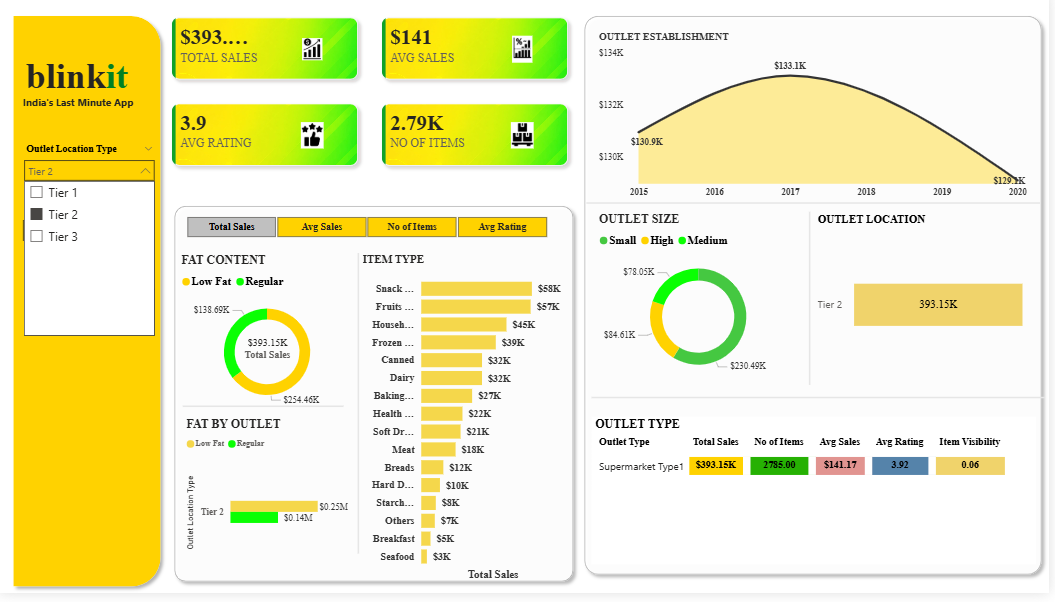

Layout of this report page (visuals, bound fields, positions):
{"tool":"powerbi","page":{"name":"Page 1","canvas":[1400,800],"ordinal":0},"visuals":[{"type":"shape","box":[10.7,21.4,214.5,778.8],"z":0},{"type":"textbox","box":[26.8,77.7,154.2,65.7],"z":1000},{"type":"textbox","box":[26.8,131.4,168.9,28.2],"z":2000},{"type":"cardVisual","fields":{"Data":["BlinkIT Grocery Data.Total Sales","BlinkIT Grocery Data.Avg Sales","BlinkIT Grocery Data.Avg Rating","BlinkIT Grocery Data.No of Items"]},"box":[202.4,2.7,587.1,256],"z":3000},{"type":"shape","box":[225.2,274.8,549.6,518.8],"z":4000},{"type":"donutChart","title":"FAT CONTENT","fields":{"Y":["BlinkIT Grocery Data.Total Sales"],"Category":["BlinkIT Grocery Data.Item Fat Content"]},"box":[238.6,347.2,238.6,214.5],"z":5000},{"type":"slicer","fields":{"Values":["Metrics.Metrics"]},"box":[225.2,290.9,529.5,38.9],"z":6000},{"type":"cardVisual","fields":{"Data":["BlinkIT Grocery Data.Total Sales"]},"box":[294.9,438.3,126,73.7],"z":7000},{"type":"clusteredBarChart","title":"FAT BY OUTLET","fields":{"Y":["BlinkIT Grocery Data.Total Sales"],"Category":["BlinkIT Grocery Data.Outlet Location Type"],"Series":["BlinkIT Grocery Data.Item Fat Content"]},"box":[245.3,564.3,225.2,202.4],"z":8000},{"type":"shape","box":[245.3,544.2,214.5,12.1],"z":9000},{"type":"shape","box":[473.2,347.2,12.1,406.2],"z":10000},{"type":"barChart","title":"ITEM TYPE","fields":{"Y":["BlinkIT Grocery Data.Total Sales"],"Category":["BlinkIT Grocery Data.Item Type"]},"box":[485.3,345.8,269.4,437],"z":11000},{"type":"shape","box":[772.1,21.4,627.3,762.7],"z":12000},{"type":"lineChart","title":"OUTLET ESTABLISHMENT","fields":{"Category":["BlinkIT Grocery Data.Outlet Establishment Year"],"Y":["BlinkIT Grocery Data.Total Sales"]},"box":[794.9,49.6,580.4,230.6],"z":13000},{"type":"shape","box":[789.5,533.5,604.6,12.1],"z":14000},{"type":"donutChart","title":"OUTLET SIZE","fields":{"Y":["BlinkIT Grocery Data.Total Sales"],"Category":["BlinkIT Grocery Data.Outlet Size"]},"box":[794.9,290.9,274.8,230.6],"z":15000},{"type":"shape","box":[1075.1,290.9,12.1,235.9],"z":16000},{"type":"funnel","title":"OUTLET LOCATION","fields":{"Category":["BlinkIT Grocery Data.Outlet Location Type"],"Y":["Sum(BlinkIT Grocery Data.Sales)"]},"box":[1087.1,293.6,288.2,227.9],"z":17000},{"type":"shape","box":[782.8,276.1,604.6,6.7],"z":18000},{"type":"pivotTable","title":"OUTLET TYPE","fields":{"Rows":["BlinkIT Grocery Data.Outlet Type"],"Values":["BlinkIT Grocery Data.Total Sales","BlinkIT Grocery Data.No of Items","BlinkIT Grocery Data.Avg Sales","BlinkIT Grocery Data.Avg Rating","Avg(BlinkIT Grocery Data.Item Visibility)"]},"box":[789.5,564.3,592.5,197.1],"z":19000},{"type":"slicer","fields":{"Values":["BlinkIT Grocery Data.Outlet Location Type"]},"box":[24.1,194.4,194.4,64.3],"z":20000},{"type":"slicer","fields":{"Values":["BlinkIT Grocery Data.Outlet Size"]},"box":[21.4,274.8,194.4,64.3],"z":21000},{"type":"slicer","fields":{"Values":["BlinkIT Grocery Data.Item Type"]},"box":[22.8,367.3,194.4,64.3],"z":22000}]}

Visuals, with their boxes in screenshot pixels (x1, y1, x2, y2), scaled from the page's 1400x800 canvas onto the 1055x602 screenshot:
shape: pyautogui.locateOnScreen(8, 16, 170, 601)
textbox: pyautogui.locateOnScreen(20, 58, 136, 108)
textbox: pyautogui.locateOnScreen(20, 99, 147, 120)
cardVisual - BlinkIT Grocery Data.Total Sales x BlinkIT Grocery Data.Avg Sales: pyautogui.locateOnScreen(153, 2, 595, 195)
shape: pyautogui.locateOnScreen(170, 207, 584, 597)
"FAT CONTENT" donutChart: pyautogui.locateOnScreen(180, 261, 360, 423)
slicer - Metrics.Metrics: pyautogui.locateOnScreen(170, 219, 569, 248)
cardVisual - BlinkIT Grocery Data.Total Sales: pyautogui.locateOnScreen(222, 330, 317, 385)
"FAT BY OUTLET" clusteredBarChart: pyautogui.locateOnScreen(185, 425, 355, 577)
shape: pyautogui.locateOnScreen(185, 410, 346, 419)
shape: pyautogui.locateOnScreen(357, 261, 366, 567)
"ITEM TYPE" barChart: pyautogui.locateOnScreen(366, 260, 569, 589)
shape: pyautogui.locateOnScreen(582, 16, 1054, 590)
"OUTLET ESTABLISHMENT" lineChart: pyautogui.locateOnScreen(599, 37, 1036, 211)
shape: pyautogui.locateOnScreen(595, 401, 1051, 411)
"OUTLET SIZE" donutChart: pyautogui.locateOnScreen(599, 219, 806, 392)
shape: pyautogui.locateOnScreen(810, 219, 819, 396)
"OUTLET LOCATION" funnel: pyautogui.locateOnScreen(819, 221, 1036, 392)
shape: pyautogui.locateOnScreen(590, 208, 1046, 213)
"OUTLET TYPE" pivotTable: pyautogui.locateOnScreen(595, 425, 1041, 573)
slicer - BlinkIT Grocery Data.Outlet Location Type: pyautogui.locateOnScreen(18, 146, 165, 195)
slicer - BlinkIT Grocery Data.Outlet Size: pyautogui.locateOnScreen(16, 207, 163, 255)
slicer - BlinkIT Grocery Data.Item Type: pyautogui.locateOnScreen(17, 276, 164, 325)
